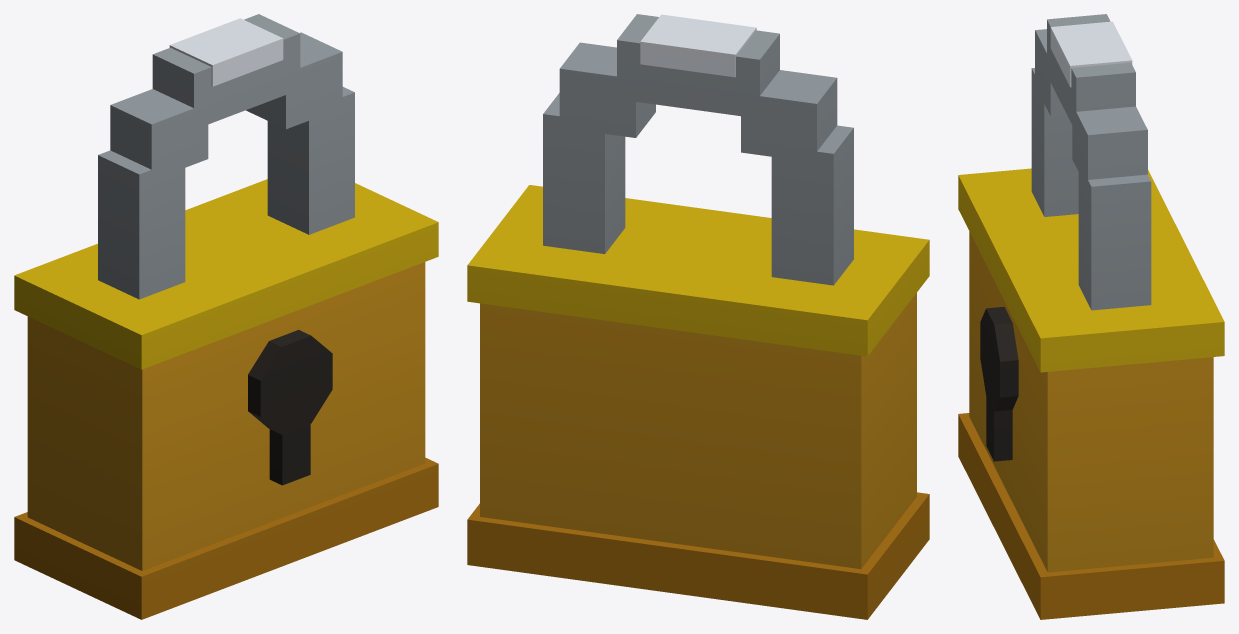
The model's file is item_lock.glb.
3 views of the same model, side by side, from view 1: azimuth 30°, elevation 25°; view 2: azimuth 150°, elevation 25°; view 3: azimuth 270°, elevation 25° (orthographic). The views are drawn at different scales.
Parts seen in each view (by area): view 1: item_lock; view 2: item_lock; view 3: item_lock.
Boxes of the visible parts, <box> form: item_lock: <box>14,14,438,619</box>; item_lock: <box>467,14,929,619</box>; item_lock: <box>958,14,1224,619</box>.
Bounding box in the file's own units: 0.9048 × 1.14 × 0.5659.
